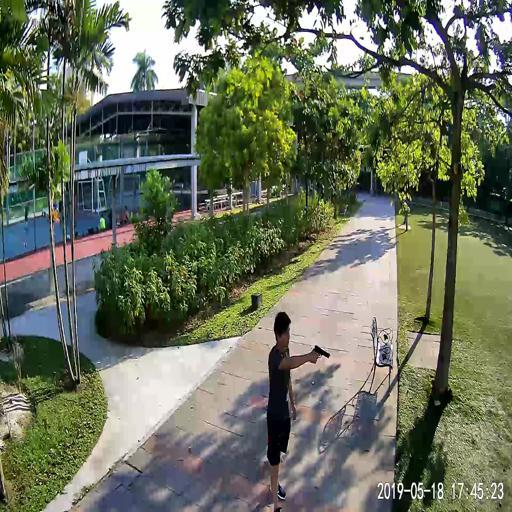Handgun: (310, 341, 329, 360)
